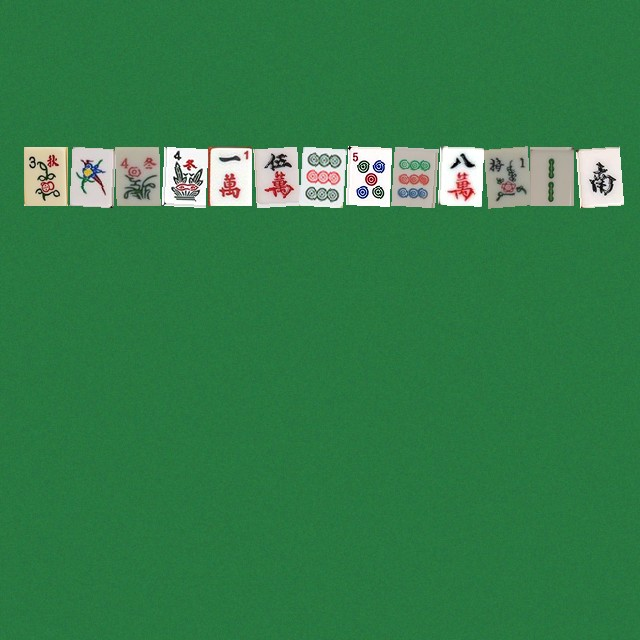tile: (23, 146, 67, 205), (69, 146, 113, 205), (115, 146, 159, 205), (161, 146, 205, 205), (207, 146, 251, 205), (253, 146, 297, 205), (299, 146, 343, 205), (345, 146, 389, 205), (391, 146, 435, 205), (437, 146, 481, 205), (483, 146, 527, 205), (529, 146, 573, 205), (575, 146, 619, 205)
